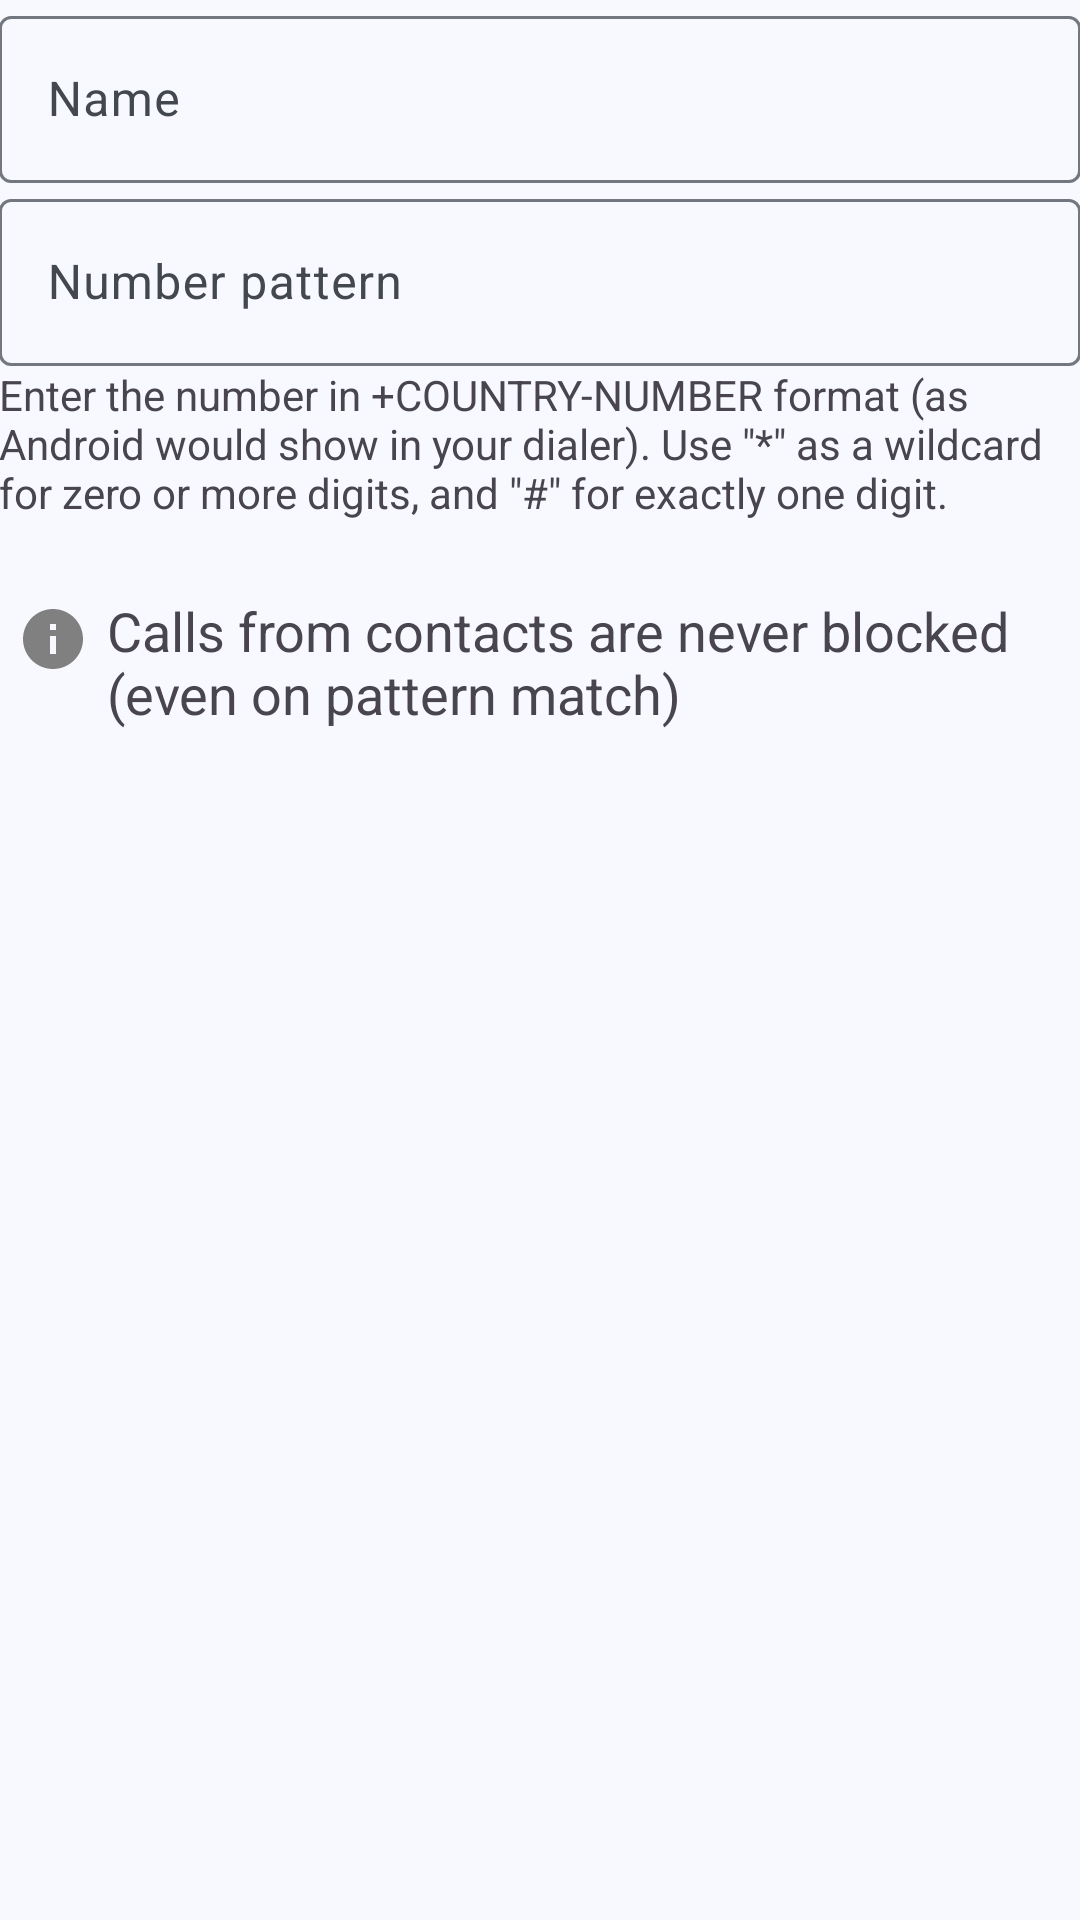

Screen size 1080 × 1920. Icon name, then its box in pixels as region(x1, y1, x2, y2):
Info: region(23, 609, 83, 669)
